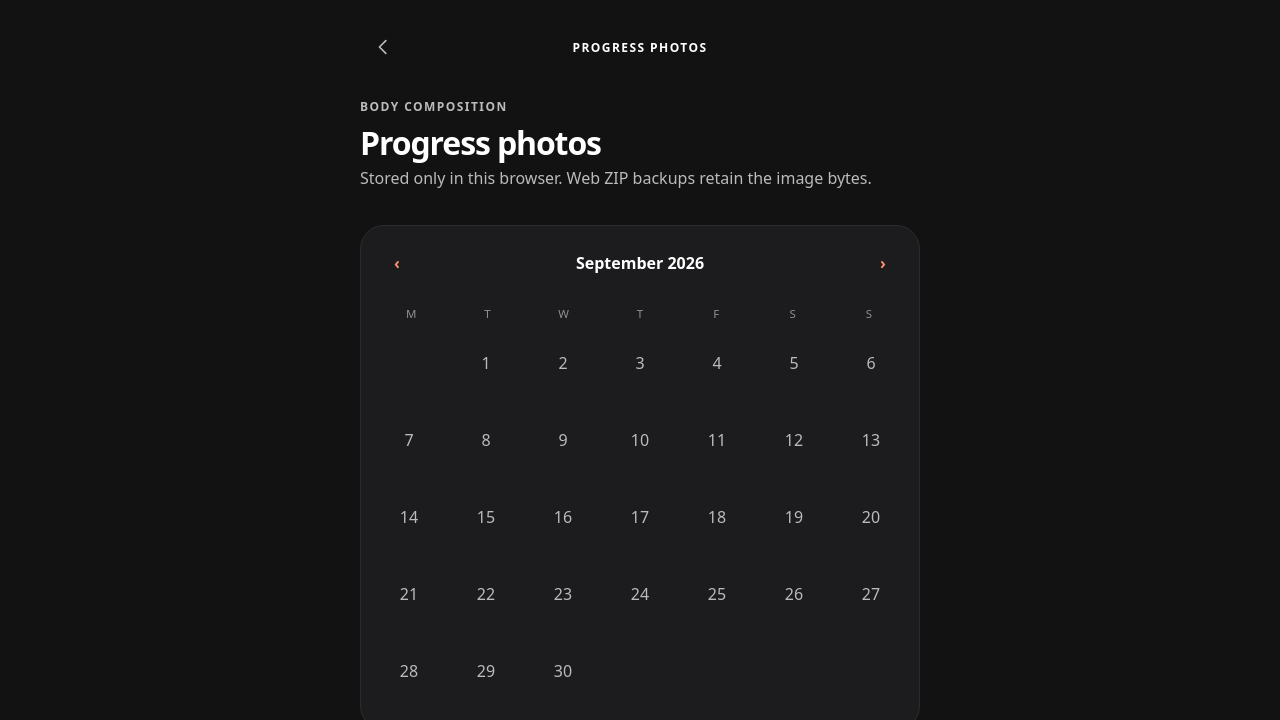
opens the browser camera and gallery equivalents for an empty calendar day
The image size is (1280, 720).
Click the button named "Add photo for 2026-09-04".
click(717, 363)  # box [681,327,753,399]
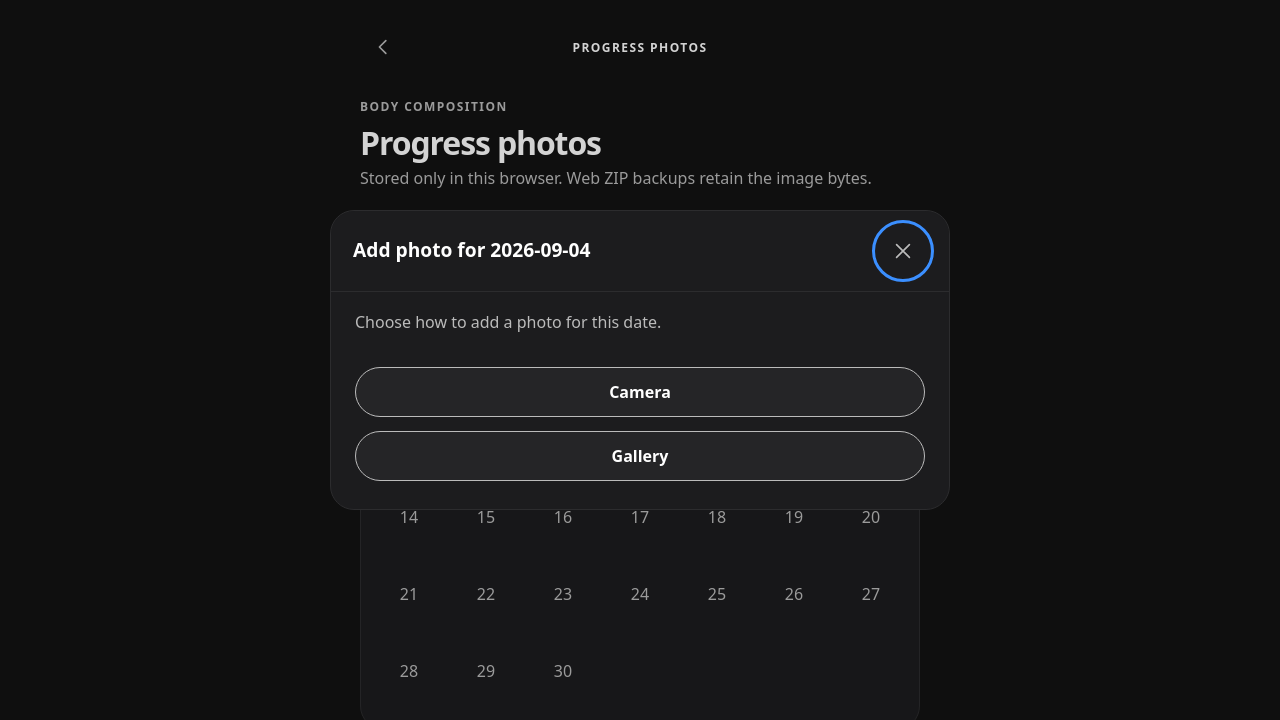
Now the heading "Add photo for 2026-09-04" is shown, box [353,238,590,263]
